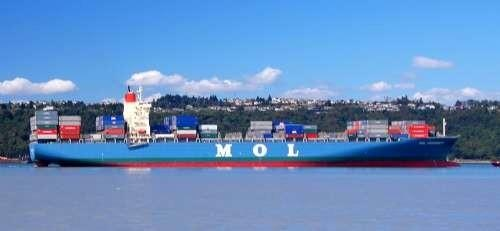Cargoship: (24, 75, 457, 172)
